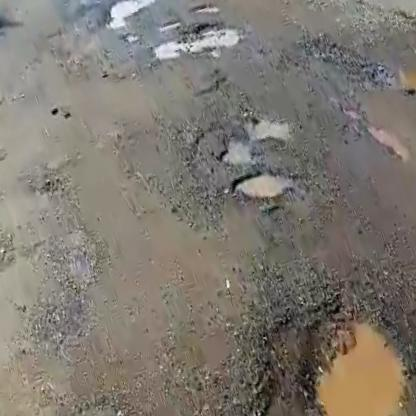pothole: (292, 298, 416, 416), (205, 102, 300, 171), (151, 12, 244, 68), (228, 154, 299, 212), (100, 0, 162, 29), (394, 46, 416, 108), (188, 0, 219, 17)
